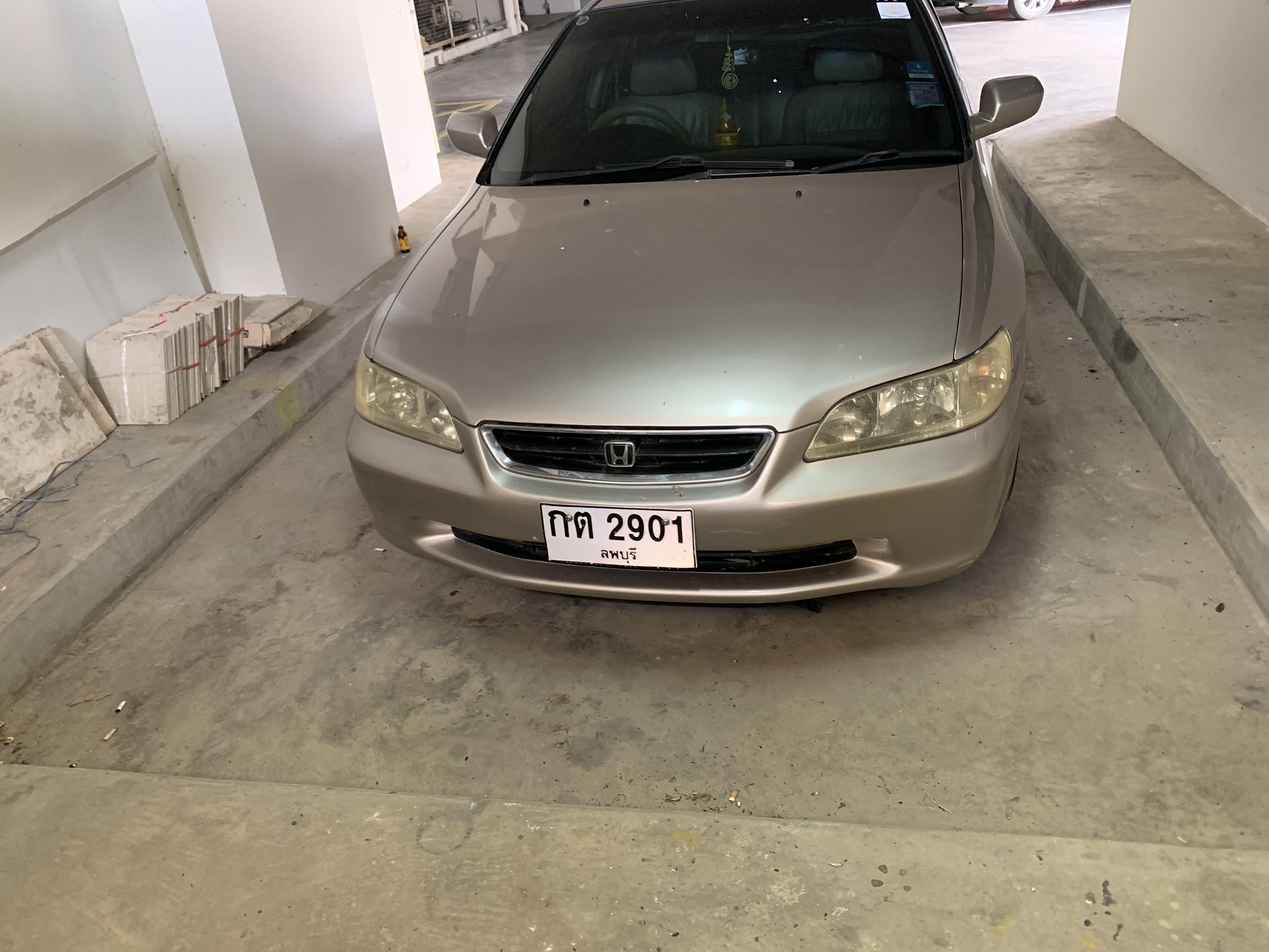license-plate: (539, 501, 702, 571)
